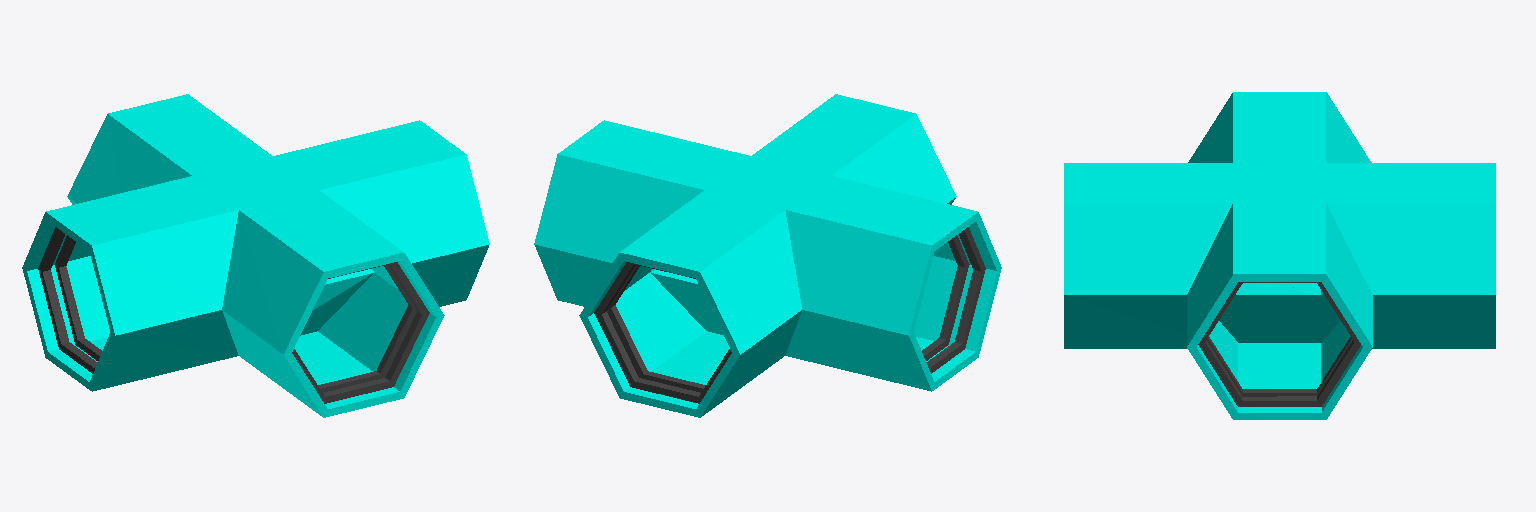
File: Pasillo4.obj
3 renders of one model, left to right at view 1: azimuth 30°, elevation 25°; view 2: azimuth 150°, elevation 25°; view 3: azimuth 270°, elevation 25°, orthographic.
Parts seen in each view (by area): view 1: corridor_4ways_Cylinder.001; view 2: corridor_4ways_Cylinder.001; view 3: corridor_4ways_Cylinder.001.
Part boxes in pixels (bbox=[...]): corridor_4ways_Cylinder.001: bbox=[22, 94, 489, 417]; corridor_4ways_Cylinder.001: bbox=[534, 94, 1001, 417]; corridor_4ways_Cylinder.001: bbox=[1064, 92, 1495, 419].
Bounding box in the file's own units: 20.5 × 7.64 × 20.5.